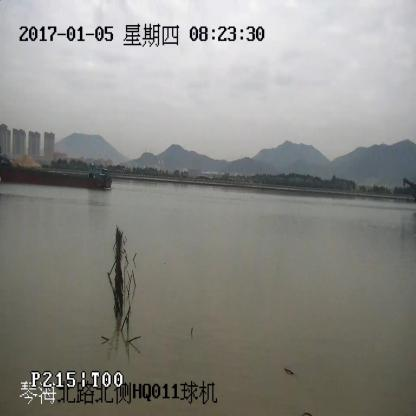Bulk Carrier: (0, 163, 112, 189)
